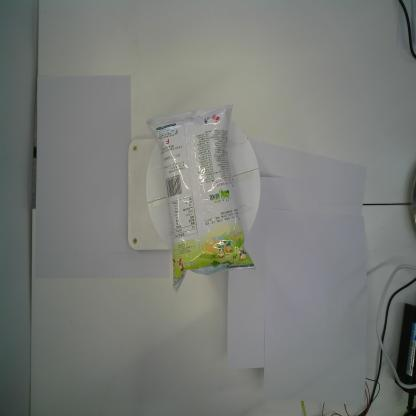Puffed Food: (147, 102, 256, 292)
